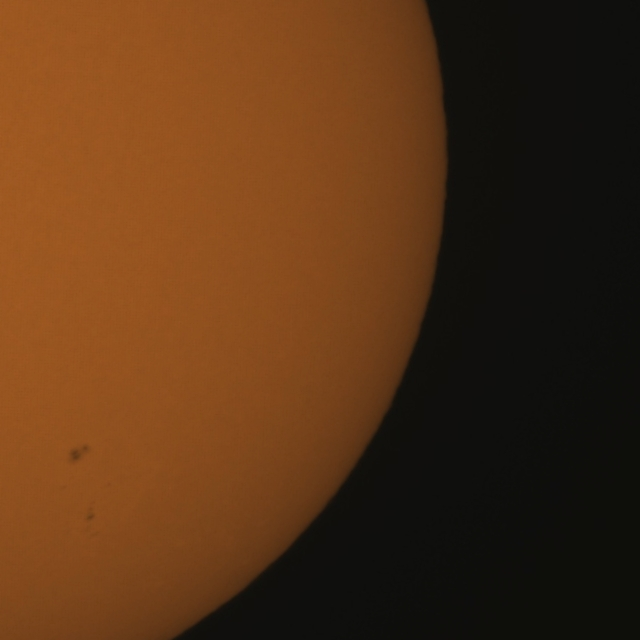sunspot: (66, 442, 92, 465), (85, 502, 97, 524)
